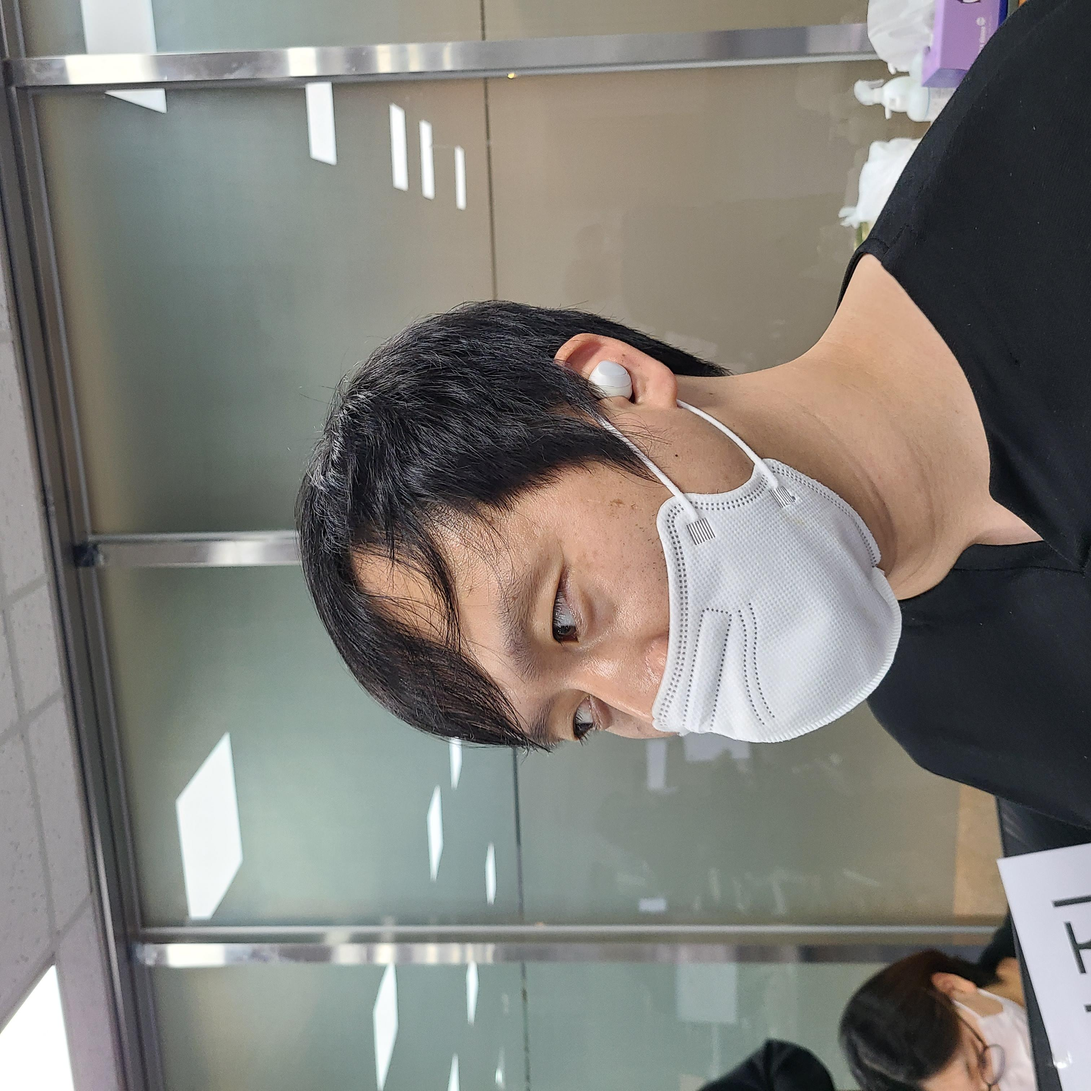earphone: (684, 572, 736, 648)
